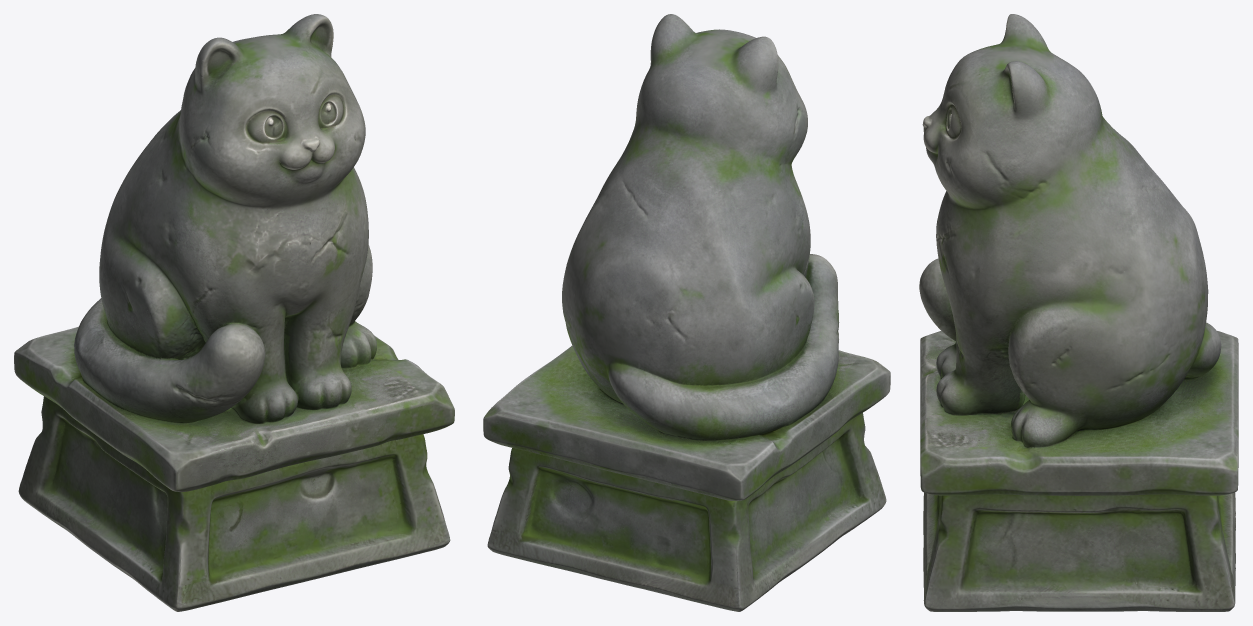
File: PetStatue.fbx
3 views of the same model, side by side, from view 1: azimuth 30°, elevation 25°; view 2: azimuth 150°, elevation 25°; view 3: azimuth 270°, elevation 25° (orthographic). The views are drawn at different scales.
Parts seen in each view (by area): view 1: Mesh_0; view 2: Mesh_0; view 3: Mesh_0.
Boxes of the visible parts, box(x1,y1,x2,y2) form: Mesh_0: box(14, 14, 454, 611); Mesh_0: box(483, 14, 890, 611); Mesh_0: box(919, 14, 1238, 611).
Bounding box in the file's own units: 107 × 190 × 108.
1 material, 1 textured.
